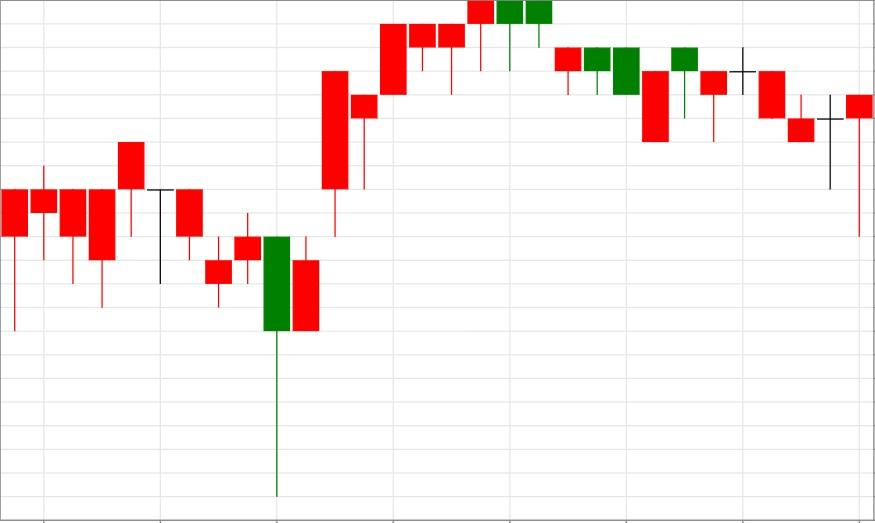hanging_man_fall: (262, 0, 525, 496)
